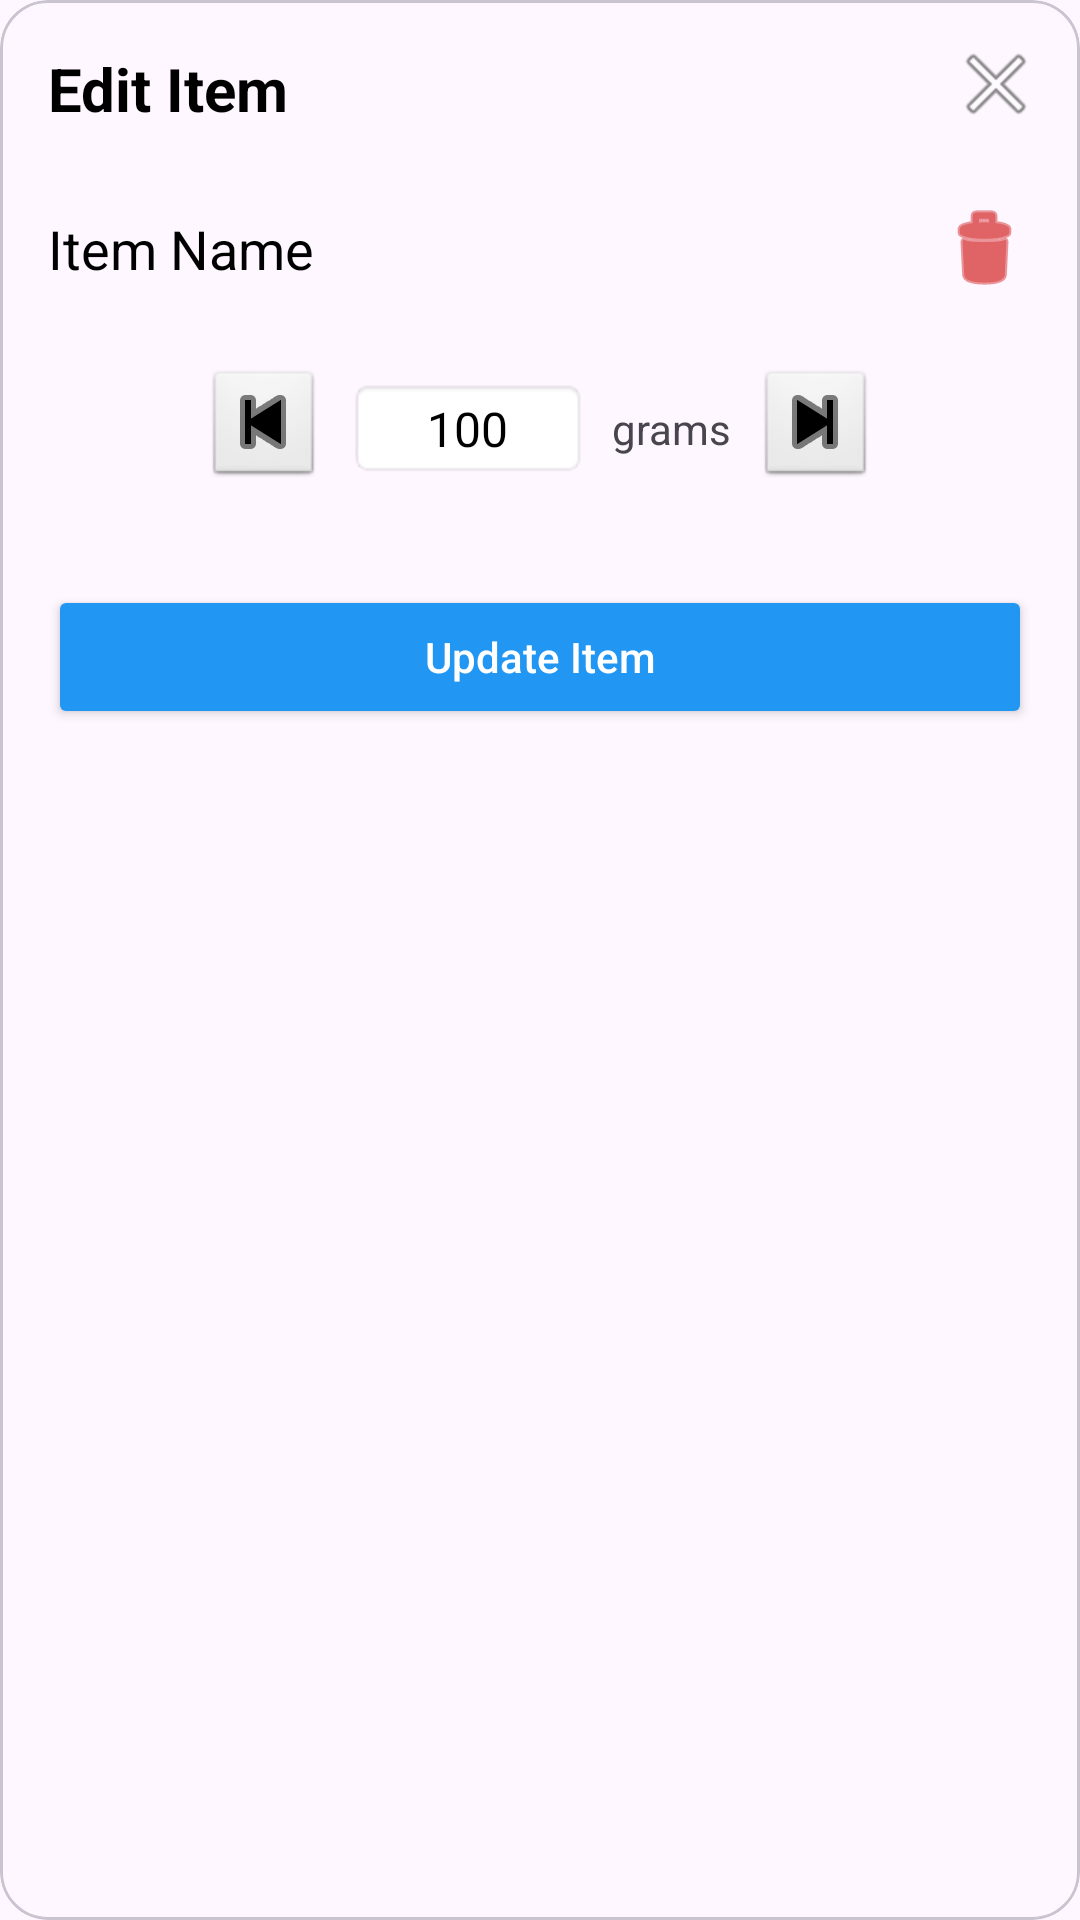

Screen size 1080px x 1920px. Icon name, then its center in pixels as (x,y):
close clear cancel: (996,84)
delete: (984,247)
next: (815,424)
previous: (263,424)
